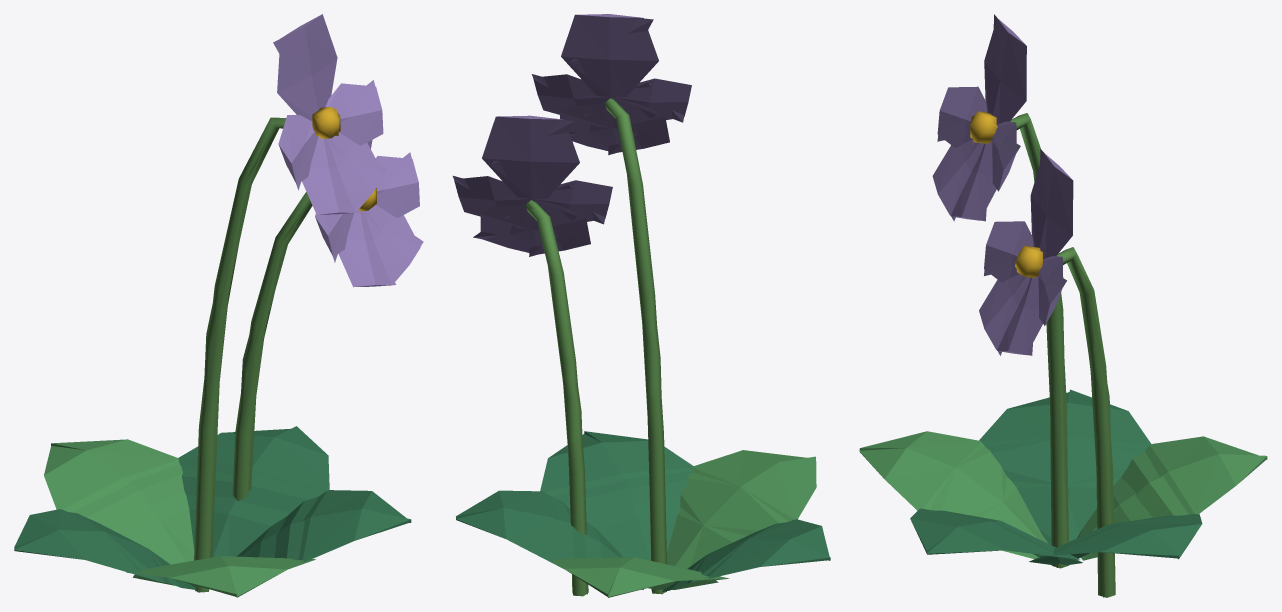
Rendered from violet_b.glb.
The picture shows the model from 3 angles, left to right: view 1: azimuth 30°, elevation 25°; view 2: azimuth 150°, elevation 25°; view 3: azimuth 270°, elevation 25°; orthographic projection. The views are drawn at different scales.
Parts seen in each view (by area): view 1: leaf_nl, petal_lilac_nl, body__far, stem, center_yellow_nl; view 2: petal_lilac_nl, leaf_nl, body__far, stem; view 3: leaf_nl, petal_lilac_nl, body__far, stem, center_yellow_nl.
Boxes of the visible parts, <box> form: leaf_nl: <box>14,426,411,597</box>; petal_lilac_nl: <box>277,14,420,287</box>; body__far: <box>15,39,423,596</box>; stem: <box>194,117,312,592</box>; center_yellow_nl: <box>312,106,376,211</box>; petal_lilac_nl: <box>454,14,691,254</box>; leaf_nl: <box>456,431,830,597</box>; body__far: <box>452,14,829,596</box>; stem: <box>525,98,666,596</box>; leaf_nl: <box>859,389,1267,565</box>; petal_lilac_nl: <box>932,18,1073,355</box>; body__far: <box>860,14,1258,597</box>; stem: <box>1010,113,1115,597</box>; center_yellow_nl: <box>970,111,1042,278</box>.
Bounding box in the file's own units: 7.98 × 10.86 × 7.04.
